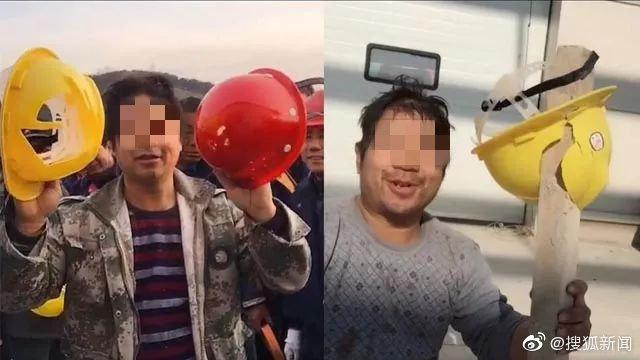helmet: (478, 80, 613, 214), (2, 48, 100, 203), (199, 74, 305, 188), (303, 87, 328, 130)
